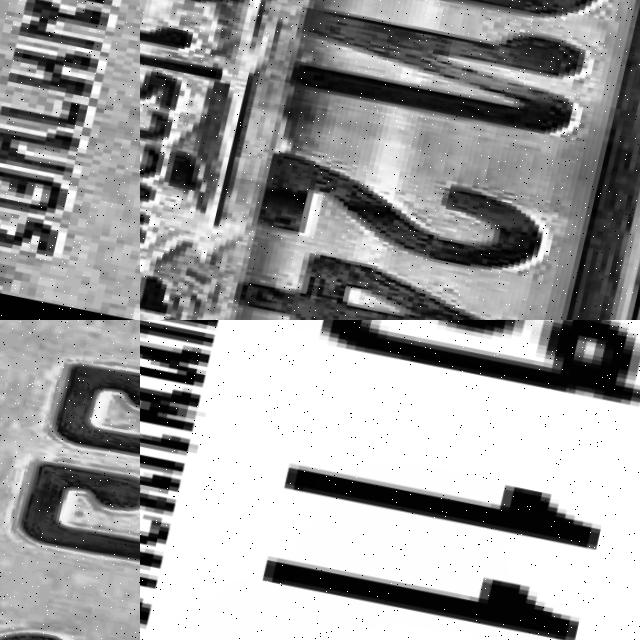license-plate: (140, 0, 640, 320), (140, 320, 640, 640), (0, 0, 140, 320), (0, 320, 140, 640)
